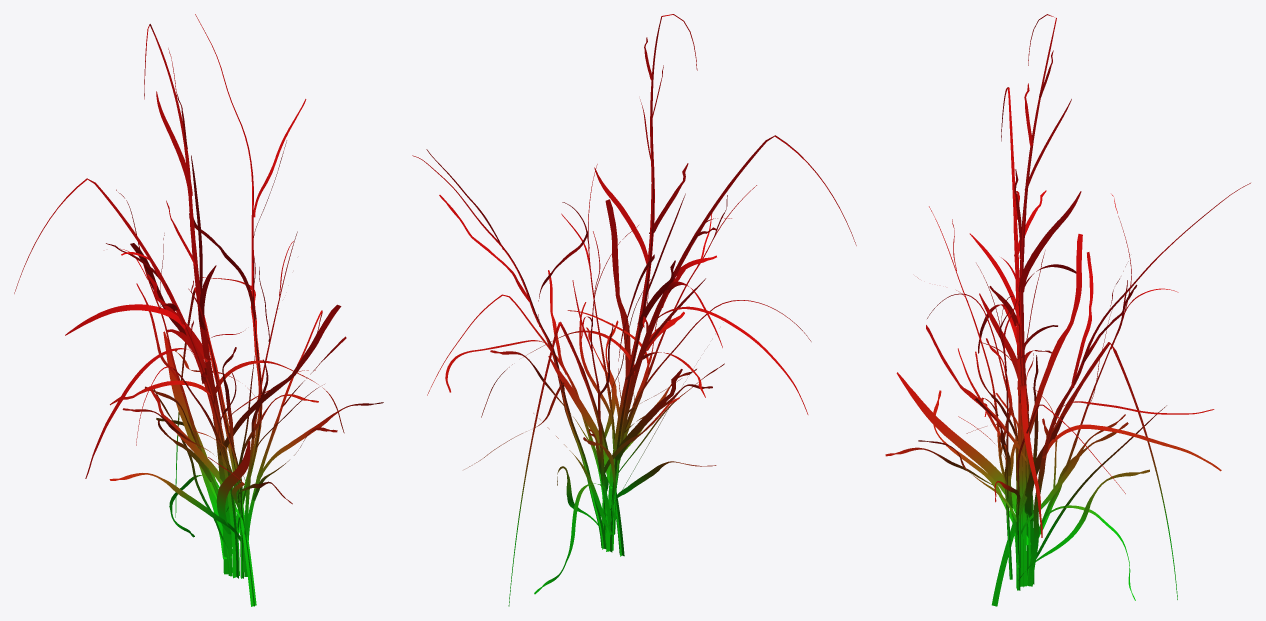
The model's file is tefocd1r_Var4_LOD0.fbx.
3 renders of one model, left to right at view 1: azimuth 30°, elevation 25°; view 2: azimuth 150°, elevation 25°; view 3: azimuth 270°, elevation 25°, orthographic. The views are drawn at different scales.
Parts seen in each view (by area): view 1: _948f_Var4_LOD0; view 2: _948f_Var4_LOD0; view 3: _948f_Var4_LOD0.
Boxes of the visible parts, box(x1,y1,x2,y2) form: _948f_Var4_LOD0: box(14, 14, 383, 606); _948f_Var4_LOD0: box(412, 14, 856, 606); _948f_Var4_LOD0: box(885, 14, 1250, 606).
Size of the model in its own units: 47.11 by 70.9 by 42.34.
